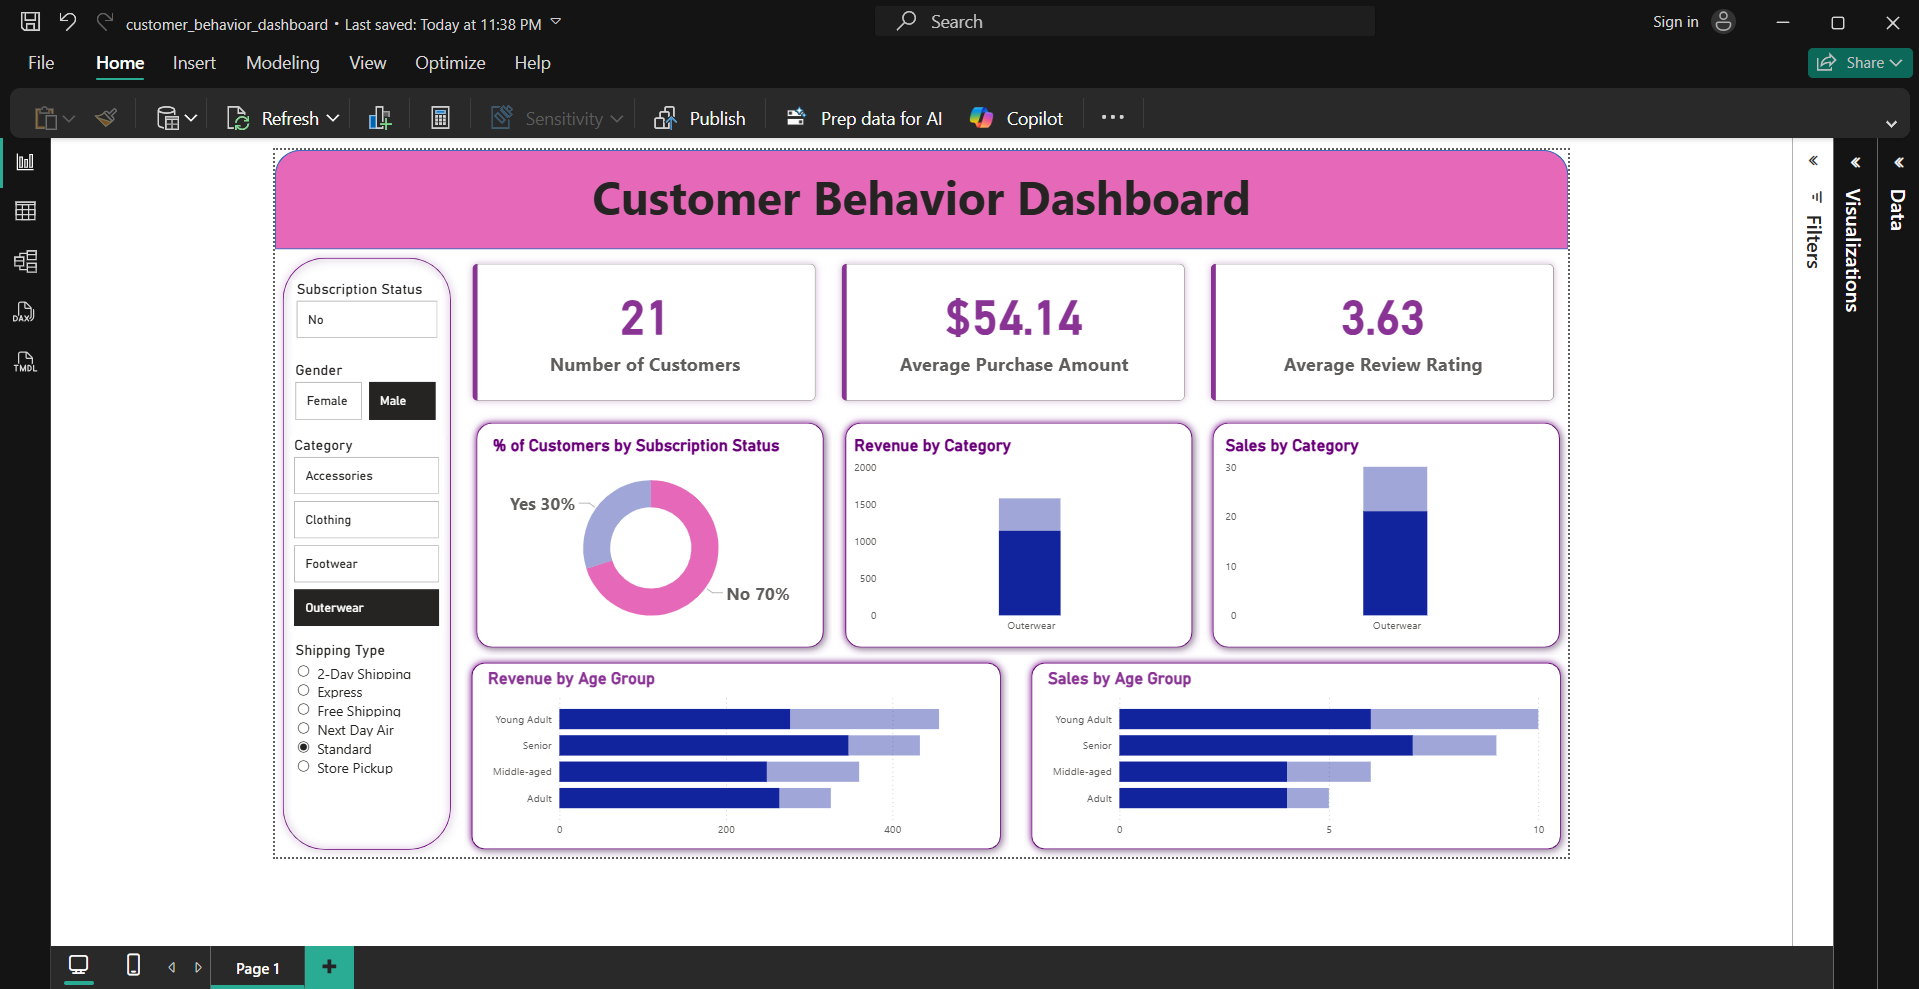

The page's visual inventory and layout, read from the dashboard file:
{"tool":"powerbi","page":{"name":"Page 1","canvas":[1500,820],"ordinal":0},"visuals":[{"type":"cardVisual","fields":{"Data":["public customer.Number of Customers","public customer.Average Purchase Amount","public customer.Average Review Rating"]},"box":[212.9,115.3,1286.5,191.6],"z":2000},{"type":"shape","box":[218.3,585.6,631.7,234.2],"z":2500,"group":"g1"},{"type":"shape","box":[0,0,1499.4,115.3],"z":3000},{"type":"textbox","box":[0,12.4,1499.4,102.9],"z":4000},{"type":"shape","box":[225.4,307,420.5,278.6],"z":5000},{"type":"donutChart","title":"% of Customers by Subscription Status","fields":{"Category":["public customer.subscription_status"],"Y":["CountNonNull(public customer.customer_id)"]},"box":[248.4,331.8,376.2,237.8],"z":6000},{"type":"shape","box":[1078.9,307,420.5,278.6],"z":7000},{"type":"shape","box":[652.1,307,420.5,278.6],"z":8000},{"type":"clusteredColumnChart","title":"Revenue by Category","fields":{"Y":["Sum(public customer.purchase_amount)"],"Category":["public customer.category"]},"box":[667.2,331.8,385.1,237.8],"z":9000},{"type":"clusteredColumnChart","title":"Sales by Category","fields":{"Y":["CountNonNull(public customer.customer_id)"],"Category":["public customer.category"]},"box":[1096.6,331.8,385.1,237.8],"z":10000},{"type":"shape","box":[0,115.3,212.9,704.5],"z":11000},{"type":"advancedSlicerVisual","fields":{"Values":["public customer.subscription_status"]},"box":[20.3,150.7,173.9,72.5],"z":12000},{"type":"advancedSlicerVisual","fields":{"Values":["public customer.gender"]},"box":[18.8,244.9,173.9,73.9],"z":13000},{"type":"advancedSlicerVisual","fields":{"Values":["public customer.category"]},"box":[17.4,331.9,178.3,227.5],"z":14000},{"type":"listSlicer","fields":{"Values":["public customer.shipping_type"]},"box":[18.8,569.6,169.6,205.8],"z":15000},{"type":"shape","box":[867.7,585.6,631.7,234.2],"z":16000},{"type":"clusteredBarChart","title":"Sales by Age Group","fields":{"Y":["CountNonNull(public customer.customer_id)"],"Category":["public customer.age_group"]},"box":[890.8,601.5,585.6,204.1],"z":17000},{"type":"clusteredBarChart","title":"Revenue by Age Group","fields":{"Y":["Sum(public customer.purchase_amount)"],"Category":["public customer.age_group"]},"box":[241.4,601.6,585.6,204.1],"z":17500,"group":"g1"},{"type":"group","id":"g1","title":"Group 1","box":[218.3,585.6,631.7,234.2],"z":17501}]}

Visuals, with their boxes in screenshot pixels (x1, y1, x2, y2):
cardVisual - public customer.Number of Customers x public customer.Average Purchase Amount: BBox(298, 137, 1829, 365)
shape: BBox(305, 697, 1056, 976)
shape: BBox(45, 0, 1829, 137)
textbox: BBox(45, 15, 1829, 137)
shape: BBox(313, 365, 814, 697)
"% of Customers by Subscription Status" donutChart: BBox(341, 395, 788, 678)
shape: BBox(1329, 365, 1829, 697)
shape: BBox(821, 365, 1321, 697)
"Revenue by Category" clusteredColumnChart: BBox(839, 395, 1297, 678)
"Sales by Category" clusteredColumnChart: BBox(1350, 395, 1808, 678)
shape: BBox(45, 137, 298, 976)
advancedSlicerVisual - public customer.subscription_status: BBox(69, 179, 276, 266)
advancedSlicerVisual - public customer.gender: BBox(67, 291, 274, 379)
advancedSlicerVisual - public customer.category: BBox(66, 395, 278, 666)
listSlicer - public customer.shipping_type: BBox(67, 678, 269, 923)
shape: BBox(1078, 697, 1829, 976)
"Sales by Age Group" clusteredBarChart: BBox(1105, 716, 1802, 959)
"Revenue by Age Group" clusteredBarChart: BBox(332, 716, 1029, 959)
"Group 1" group: BBox(305, 697, 1056, 976)
